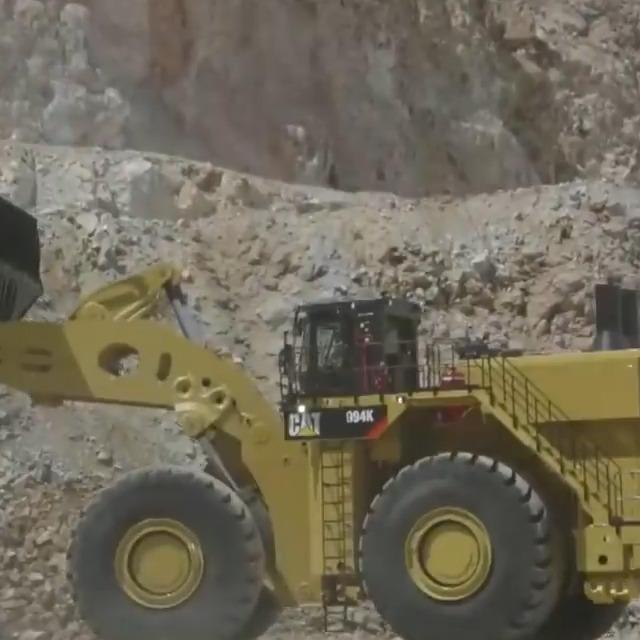wheel loader: (0, 172, 640, 640)
